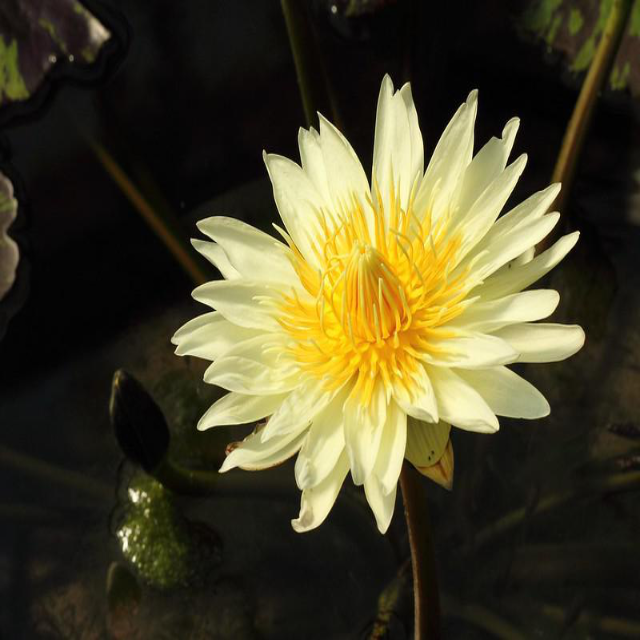water_lily: (166, 71, 587, 544)
